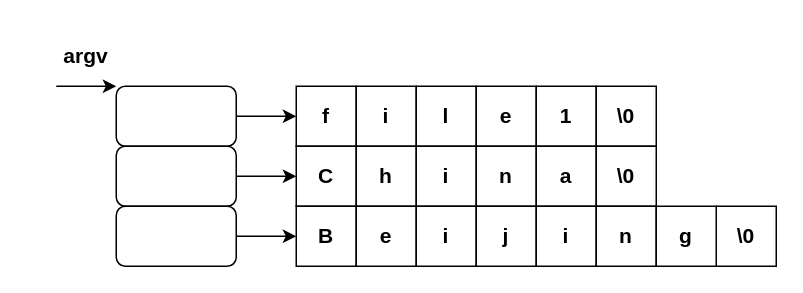
Some shapes in this 803 by 293 pixel diagram are drawn without their labels. Each missing label, with the centre of its shape:
argv[0]: the point at 175,115
argv[1]: the point at 175,175
argv[2]: the point at 175,235
